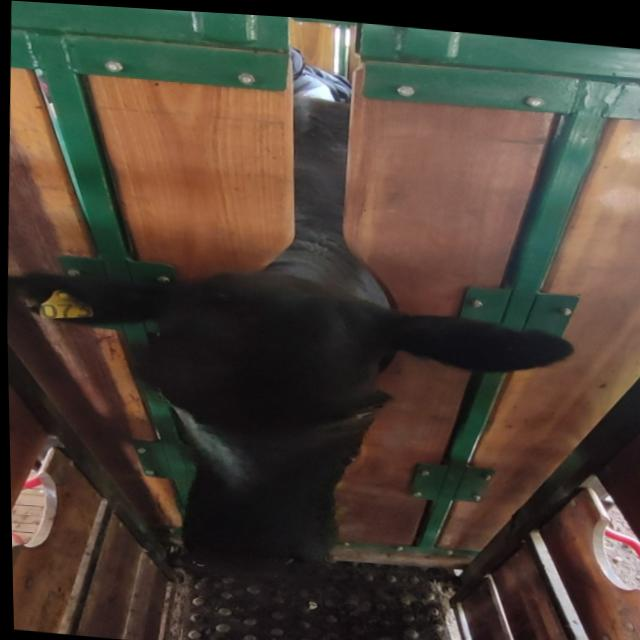cowFace: (119, 263, 384, 583)
